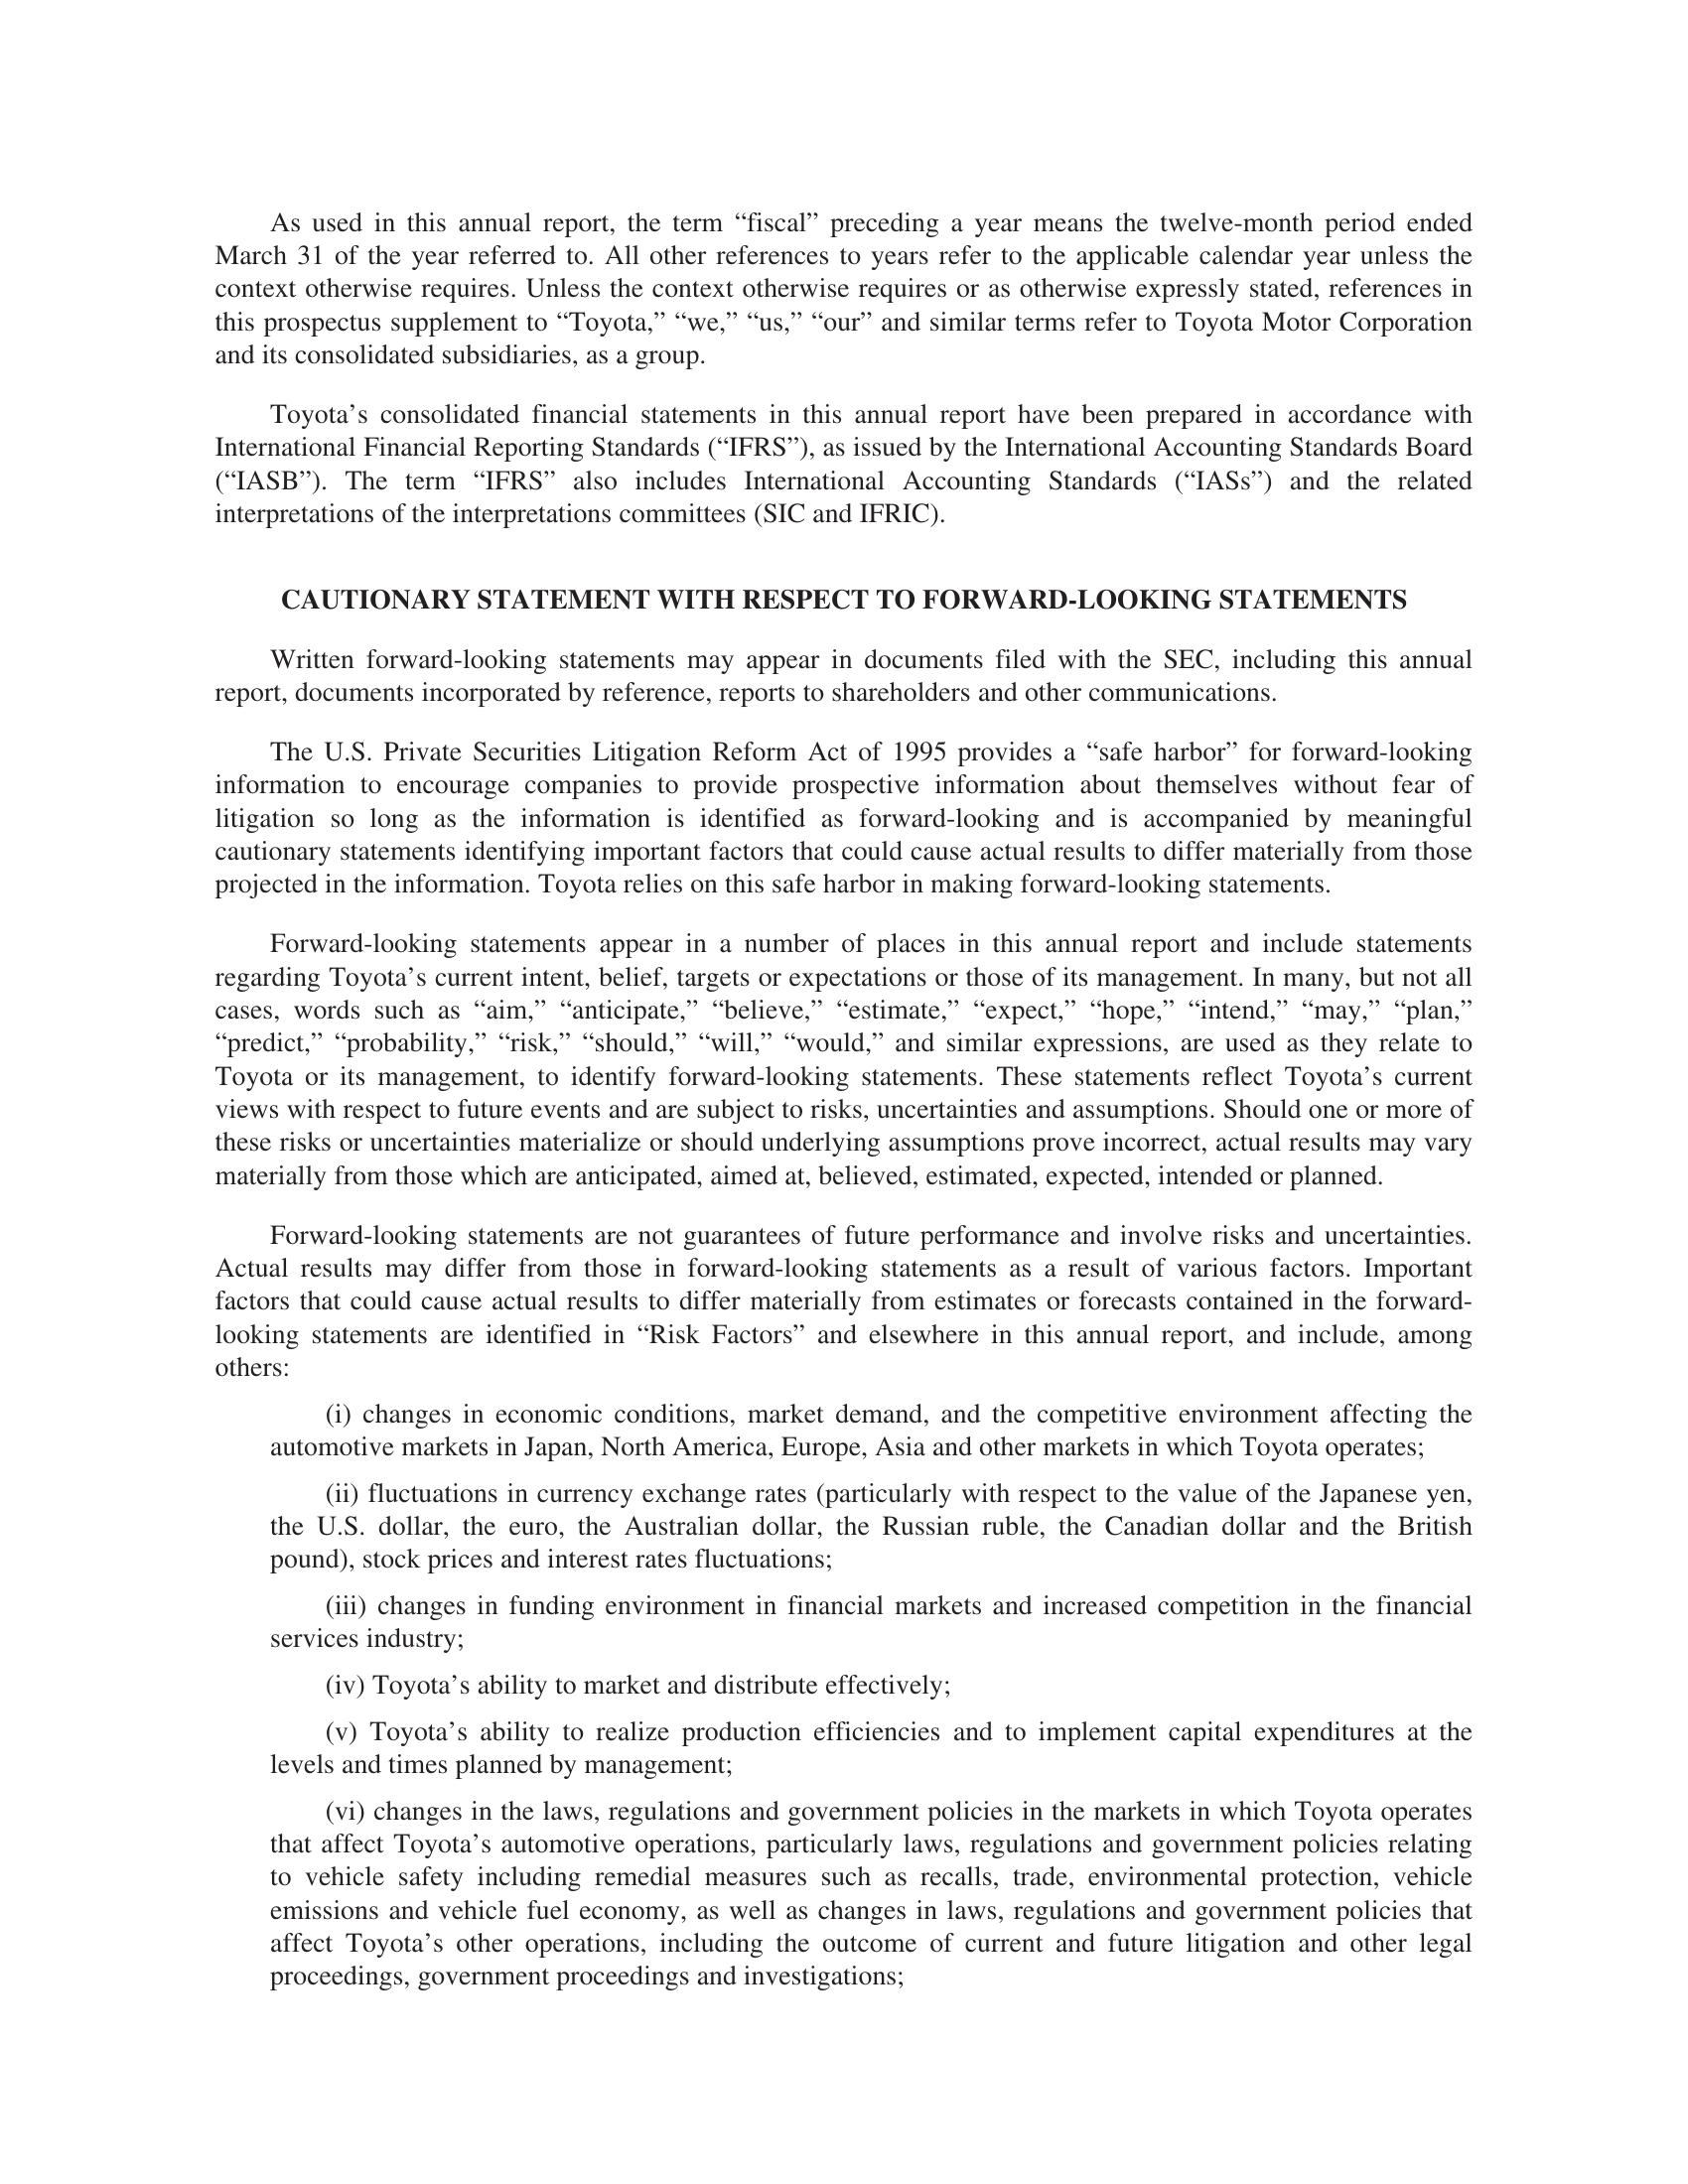Footer: (0, 2005, 1688, 2184)
Header: (0, 0, 1688, 188)
